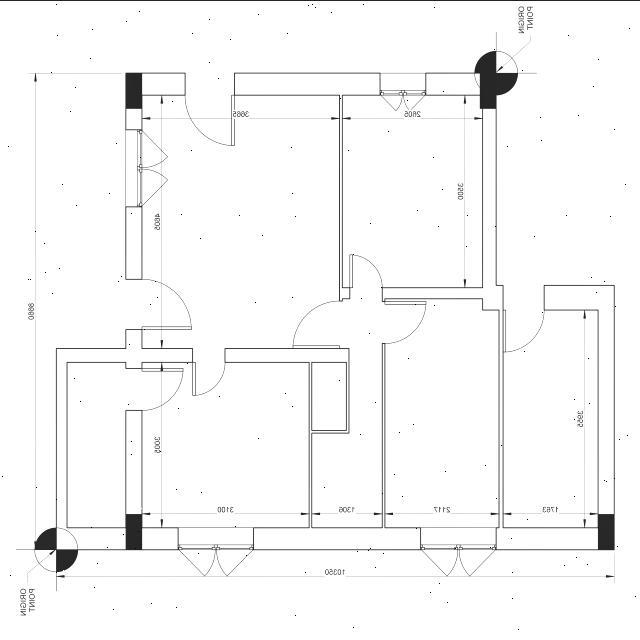Column: (125, 70, 143, 110), (125, 512, 143, 550), (598, 513, 615, 550), (480, 70, 496, 108)
Door: (185, 72, 236, 150), (124, 278, 194, 330), (292, 296, 352, 348), (503, 284, 545, 352), (125, 366, 185, 411), (382, 299, 428, 343), (348, 252, 382, 301), (192, 348, 226, 396)
Window: (420, 526, 498, 576), (178, 526, 254, 574), (125, 128, 169, 207), (379, 72, 427, 112)
